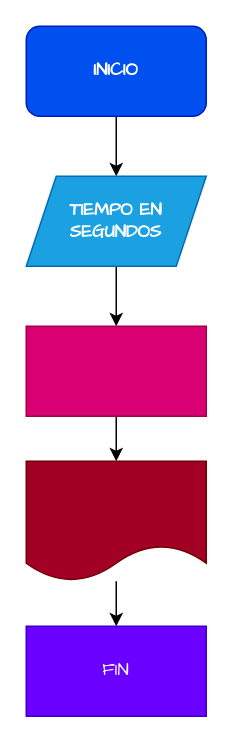
Image size: 233x743. Some labels were removed from this diagram. The shapes that lost their labels are listed below. From the top down, each one's centre as x and y in pixels, then its label:
At (x=115, y=370): "Factor de coversion".
At (x=115, y=520): "h, h1, m1, m2, s1".
